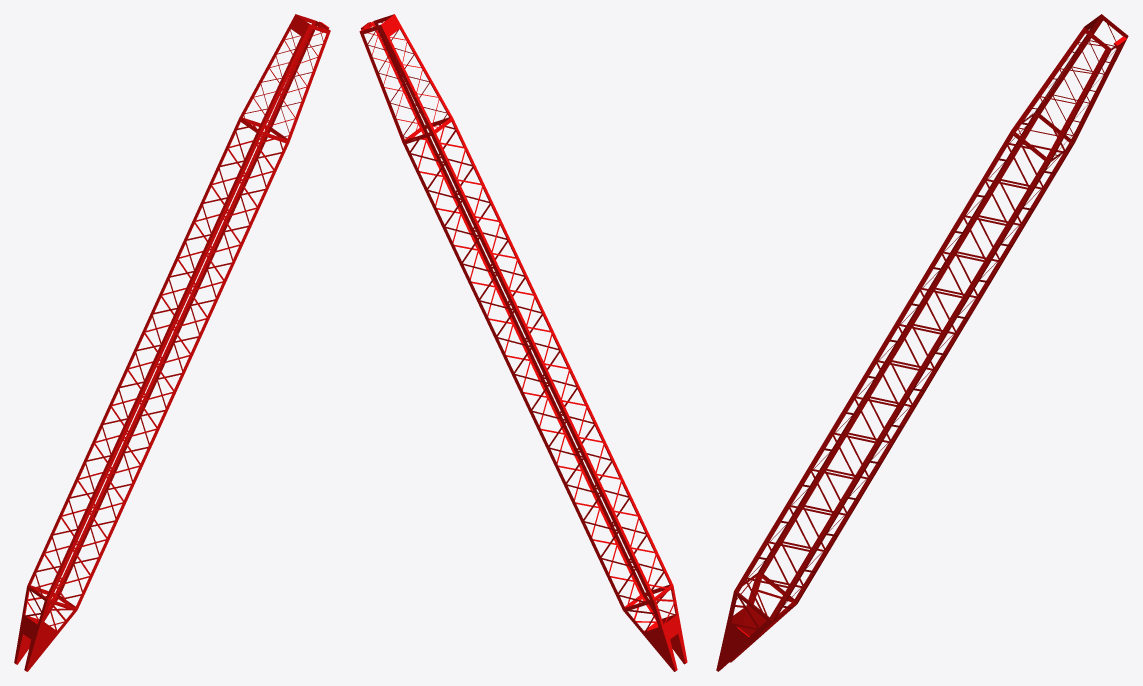
The model's file is crane_model_all_boom.fbx.
The picture shows the model from 3 angles, left to right: view 1: azimuth 30°, elevation 25°; view 2: azimuth 150°, elevation 25°; view 3: azimuth 330°, elevation 25°; orthographic projection. The views are drawn at different scales.
Visible parts, largest first — view 1: crane_all_boom; view 2: crane_all_boom; view 3: crane_all_boom.
Part boxes in pixels (x1=…): crane_all_boom: x1=14, y1=14, x2=330, y2=671; crane_all_boom: x1=359, y1=14, x2=687, y2=671; crane_all_boom: x1=716, y1=14, x2=1128, y2=671.
Size of the model in its own units: 2366 by 4202 by 308.
